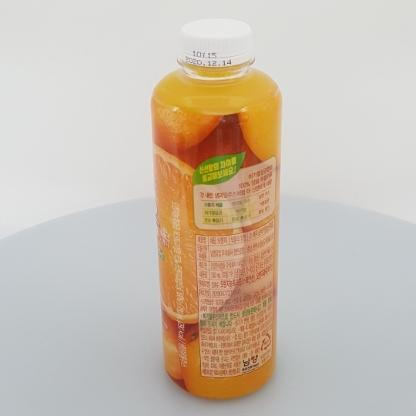-------730ML: (151, 18, 282, 400)
